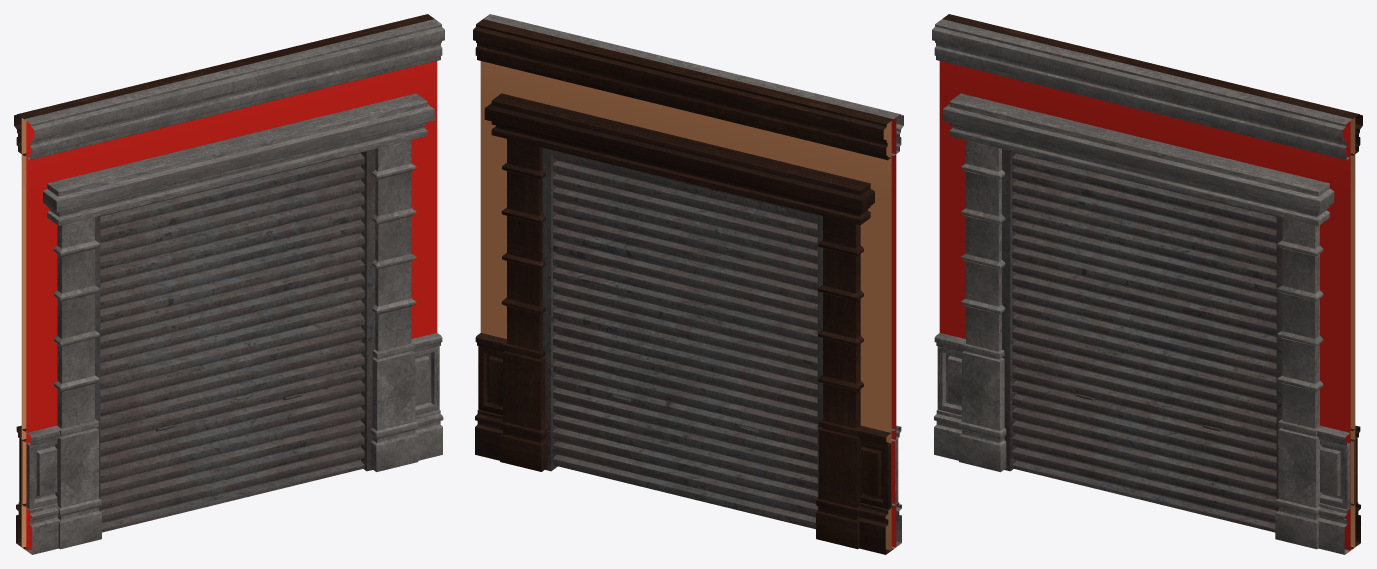
The model's file is SK7 GARAGE.fbx.
The picture shows the model from 3 angles, left to right: view 1: azimuth 30°, elevation 25°; view 2: azimuth 150°, elevation 25°; view 3: azimuth 330°, elevation 25°; orthographic projection.
Parts seen in each view (by area): view 1: SK7 GARAGE; view 2: SK7 GARAGE; view 3: SK7 GARAGE.
Part boxes in pixels (x1=…): SK7 GARAGE: x1=14, y1=14, x2=444, y2=554; SK7 GARAGE: x1=473, y1=14, x2=903, y2=554; SK7 GARAGE: x1=932, y1=14, x2=1362, y2=554.
Size of the model in its own units: 400 by 402 by 52.07.
